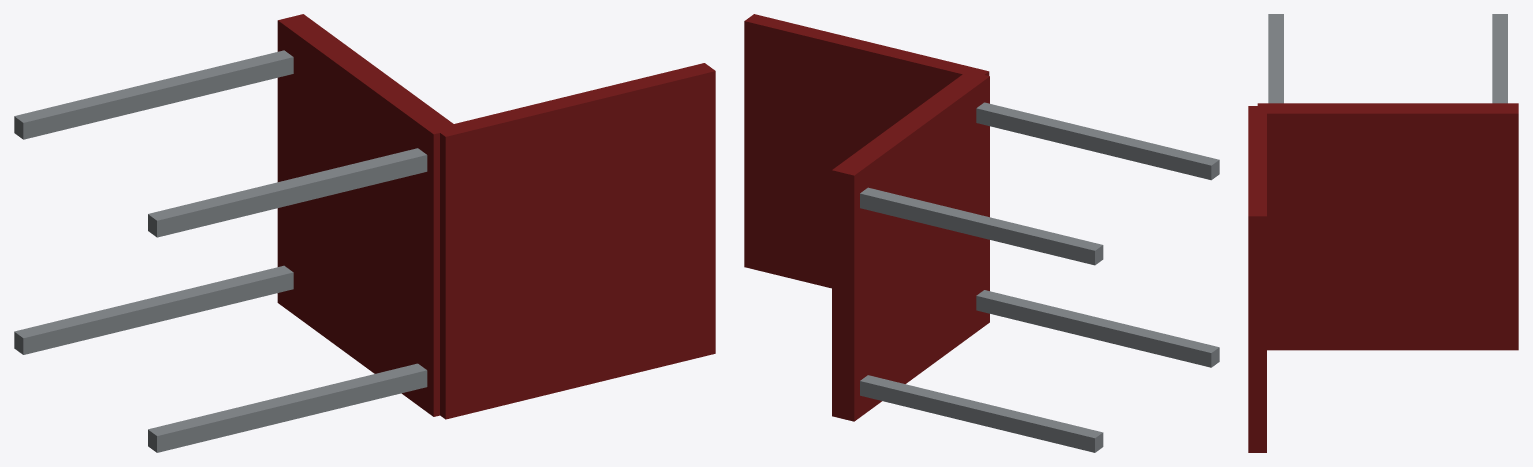
File: clutter_chair.glb
3 views of the same model, side by side, from view 1: azimuth 30°, elevation 25°; view 2: azimuth 150°, elevation 25°; view 3: azimuth 270°, elevation 25° (orthographic). The views are drawn at different scales.
Visible parts, largest first — view 1: clutter_chair; view 2: clutter_chair; view 3: clutter_chair.
Part boxes in pixels (<box>): clutter_chair: <box>14,14,715,452</box>; clutter_chair: <box>744,14,1219,452</box>; clutter_chair: <box>1248,14,1518,452</box>.
Bounding box in the file's own units: 0.85 × 0.42 × 0.435.
